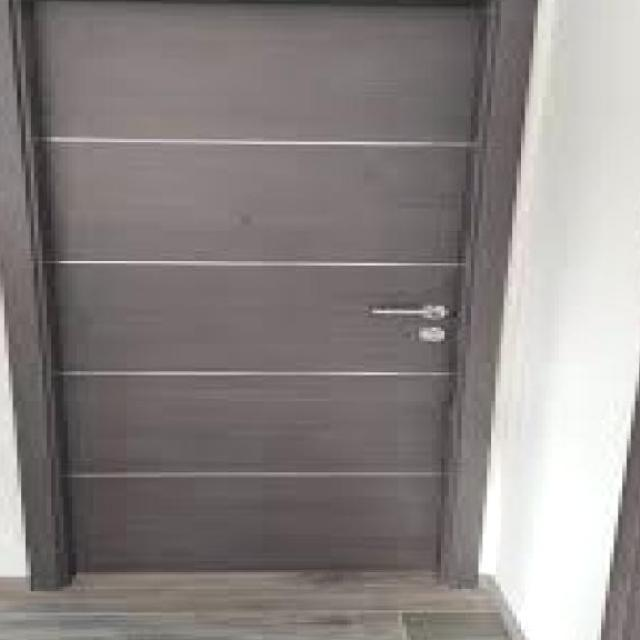door: (16, 1, 514, 587)
